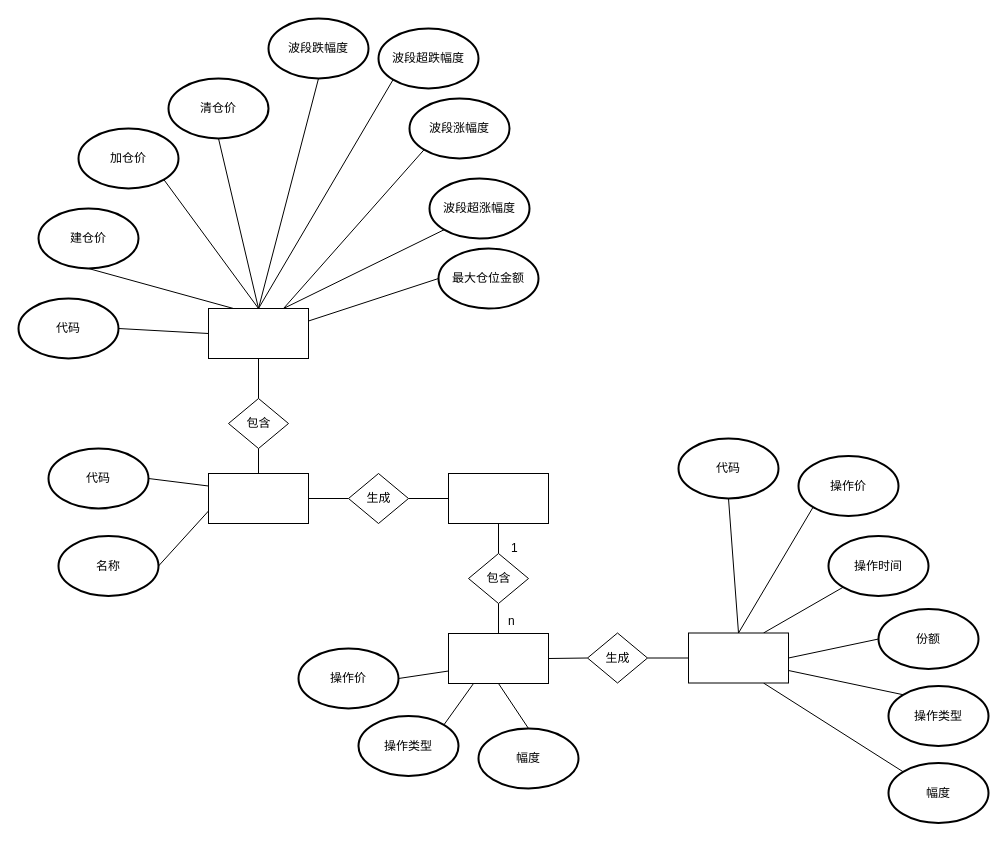
This 1006x841 diagram has some shape labels left out. The shapes that lost their labels are listed below. From the top down, each one's centre as x and y in pixels, then its label:
the point at 258,333: 基本设置
the point at 258,498: 仓库
the point at 498,498: 操作建议
the point at 498,658: 具体操作
the point at 738,657: 操作记录
